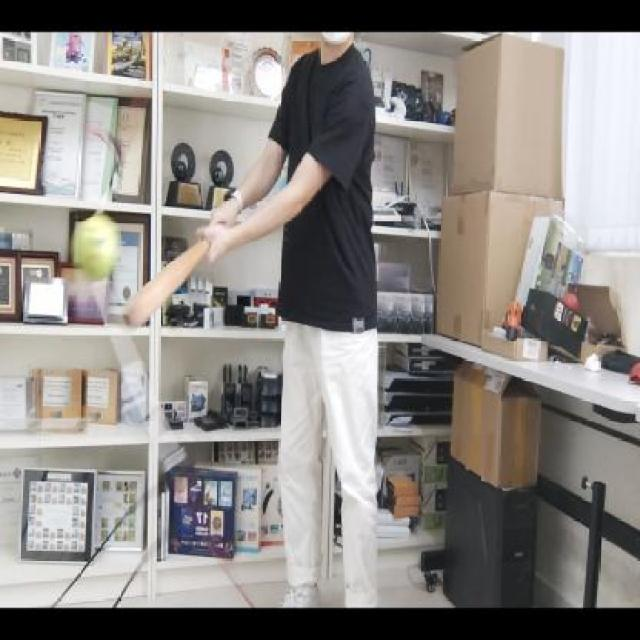baseball: (69, 208, 122, 282)
